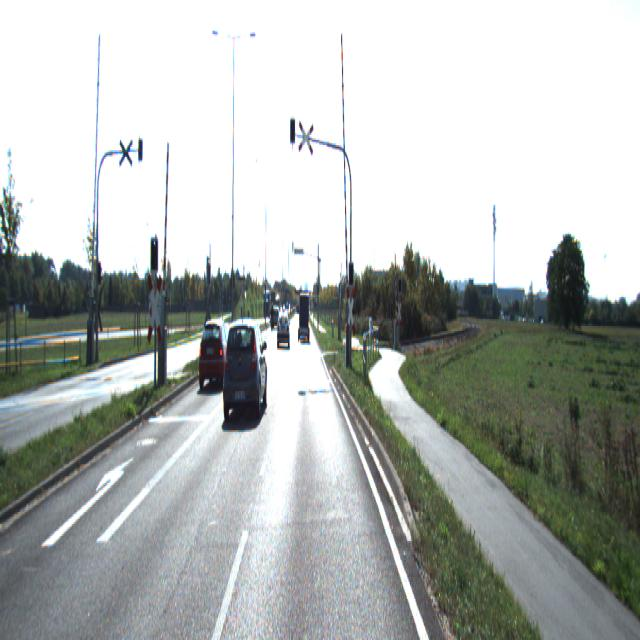Car: (222, 310, 268, 426), (197, 318, 234, 390), (298, 291, 309, 339), (277, 311, 290, 344)
